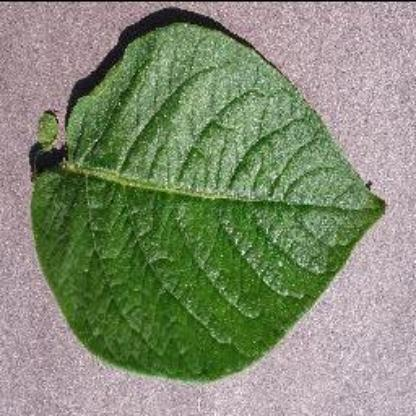Healthy-plant: (15, 15, 396, 387)
